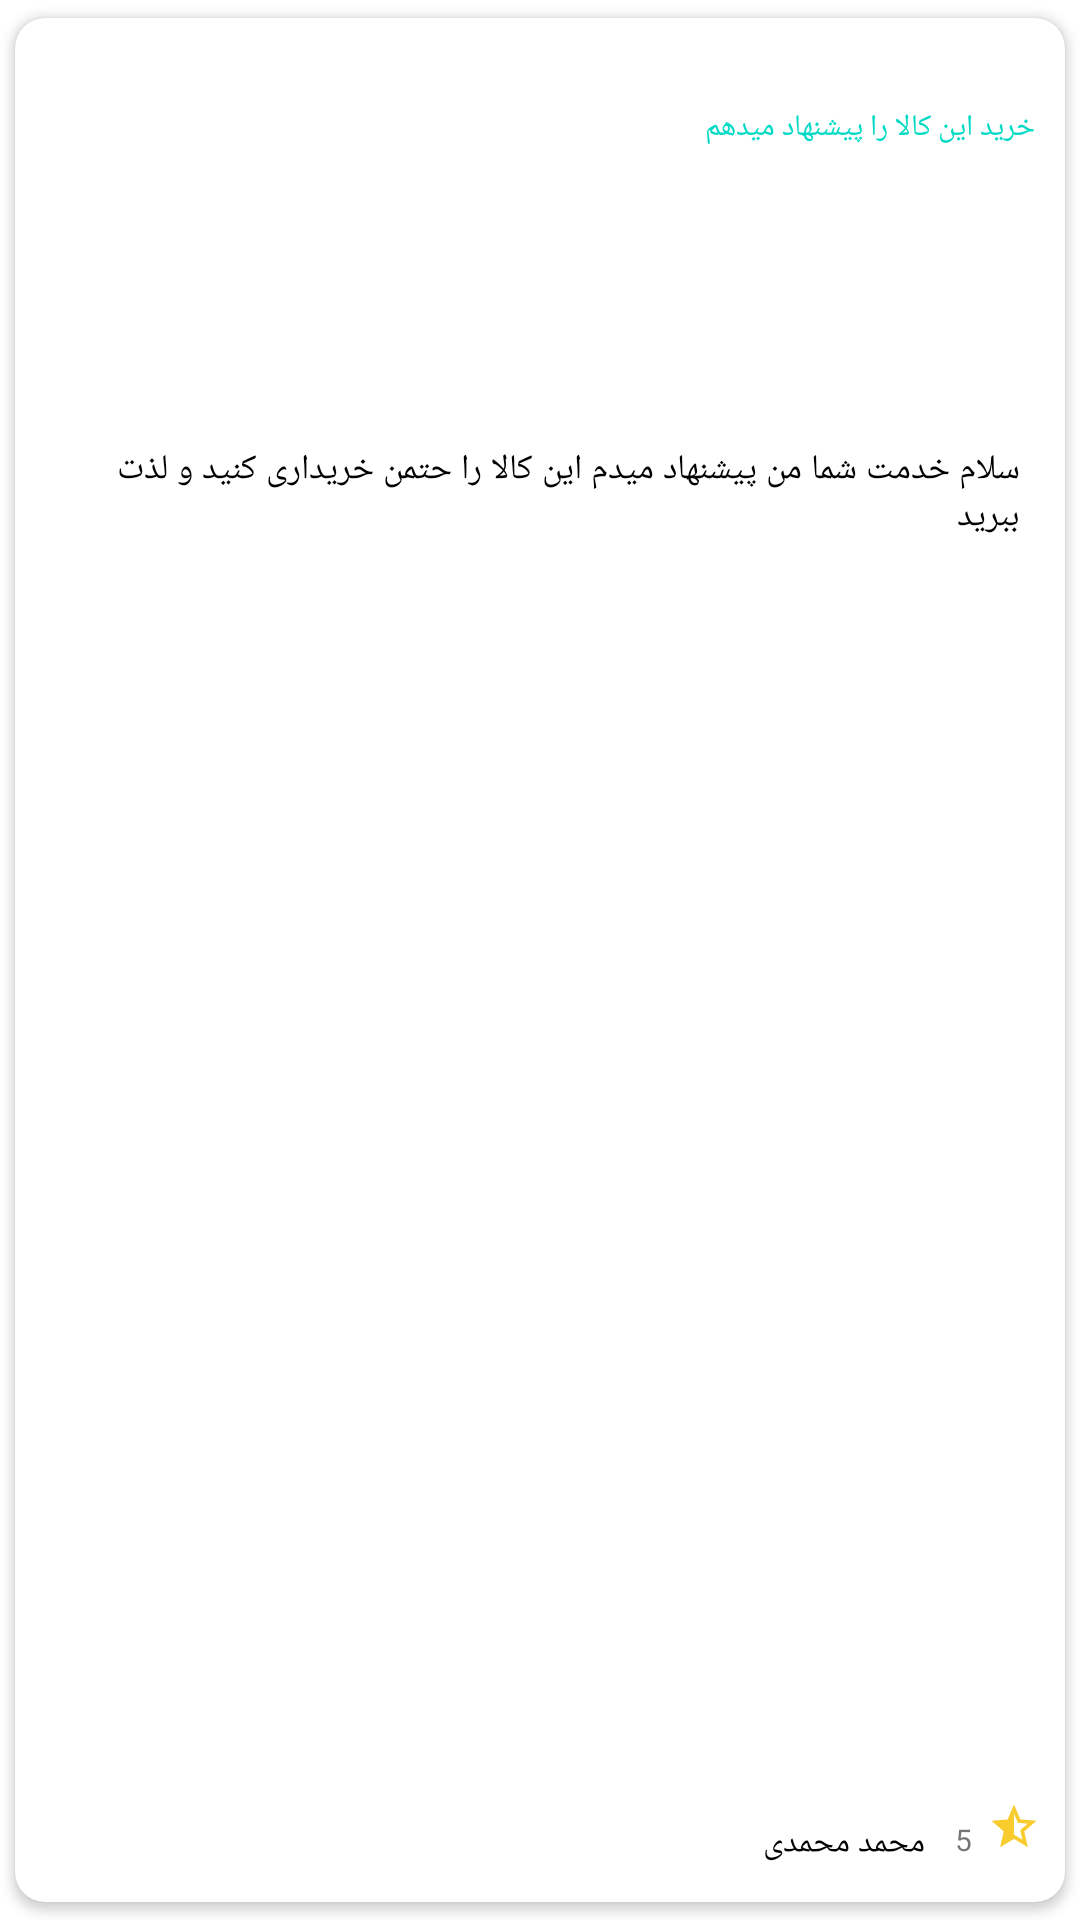

Screen size 1080×1920. Icon name, then its box in pixels as (x1, y1, x2, y2):
star half: (991, 1805, 1037, 1847)
